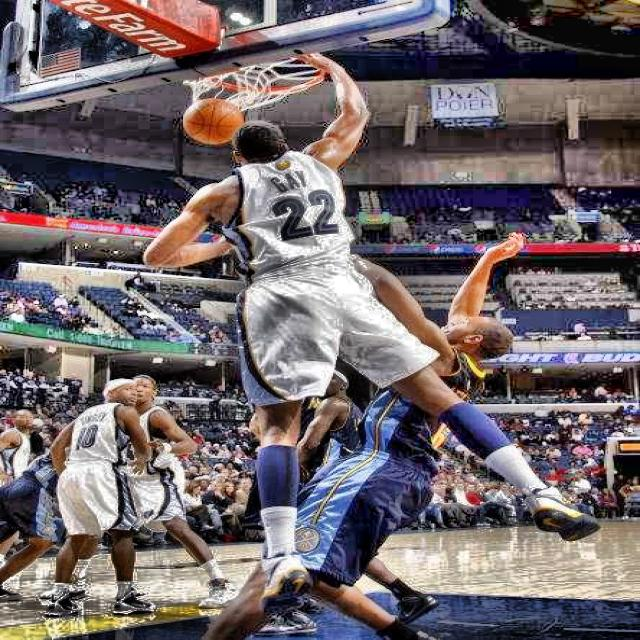board: (182, 99, 245, 146)
